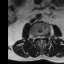CCS_normal: (40, 34, 42, 43)
LFS_normal: (44, 33, 46, 39)
LLS_normal: (42, 33, 44, 40)
RFS_normal: (35, 34, 38, 40)
RLS_normal: (38, 33, 40, 41)
